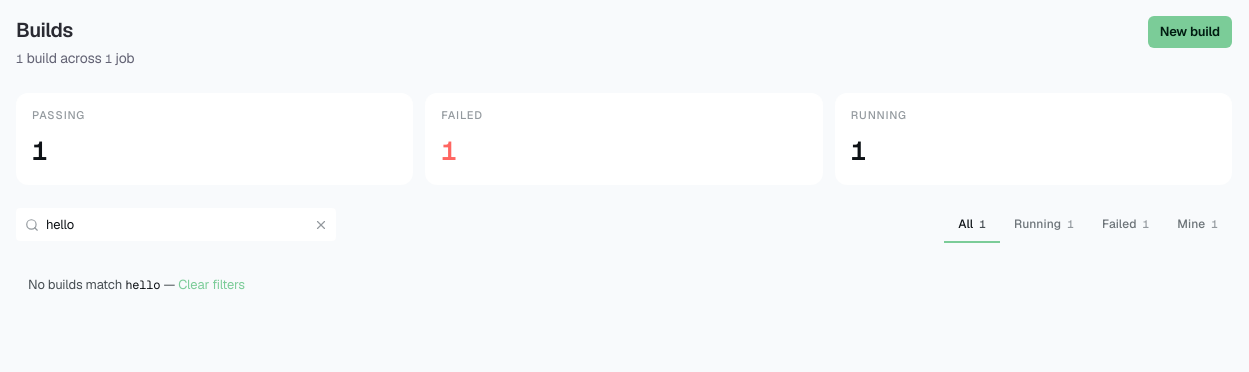
Test: Builds toolbar — clear search › clicking the inline clear glyph drops ?q from the URL
This screenshot has width=1249, height=372.
Click the button with test id "filter-clear" at (321, 224), box [310,214,332,236]
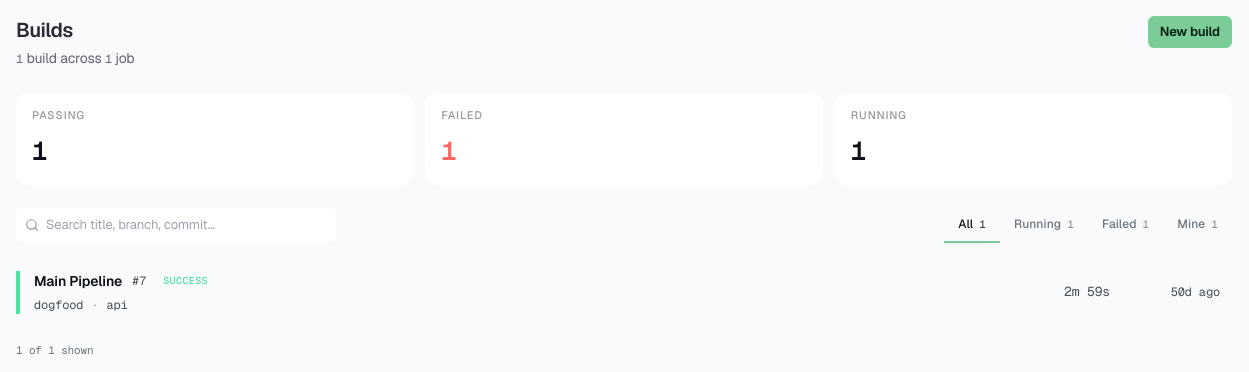
Check: the button with test id "filter-clear" is gone
